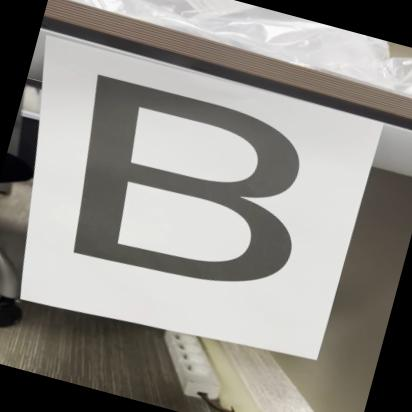seat: (28, 54, 361, 320)
